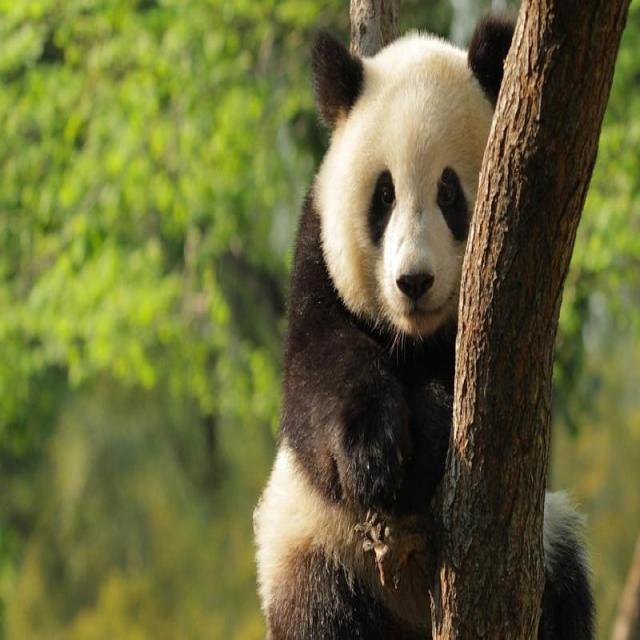panda: (253, 18, 603, 640)
